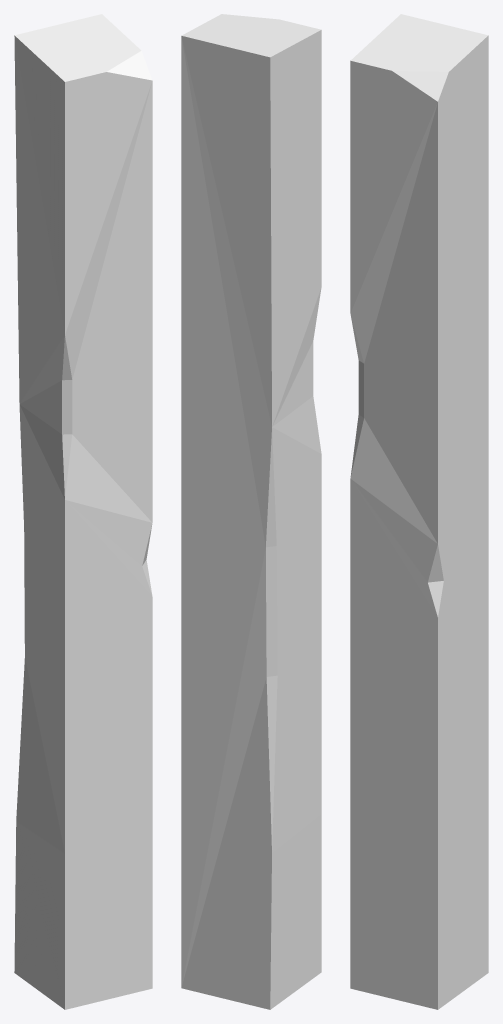
File: Bld_01_Fence_Wood_Pole_Worned_01.glb
3 renders of one model, left to right at view 1: azimuth 30°, elevation 25°; view 2: azimuth 150°, elevation 25°; view 3: azimuth 330°, elevation 25°, orthographic.
Parts seen in each view (by area): view 1: Bld_01_Fence_Wood_Pole_Worned_01; view 2: Bld_01_Fence_Wood_Pole_Worned_01; view 3: Bld_01_Fence_Wood_Pole_Worned_01.
Part boxes in pixels (x1,y1,x2,y2): Bld_01_Fence_Wood_Pole_Worned_01: (14, 14, 152, 1009); Bld_01_Fence_Wood_Pole_Worned_01: (181, 14, 321, 1009); Bld_01_Fence_Wood_Pole_Worned_01: (350, 14, 488, 1009).
Size of the model in its own units: 0.1153 by 1.18 by 0.1153.
Materials: 1 (1 with a texture image).
